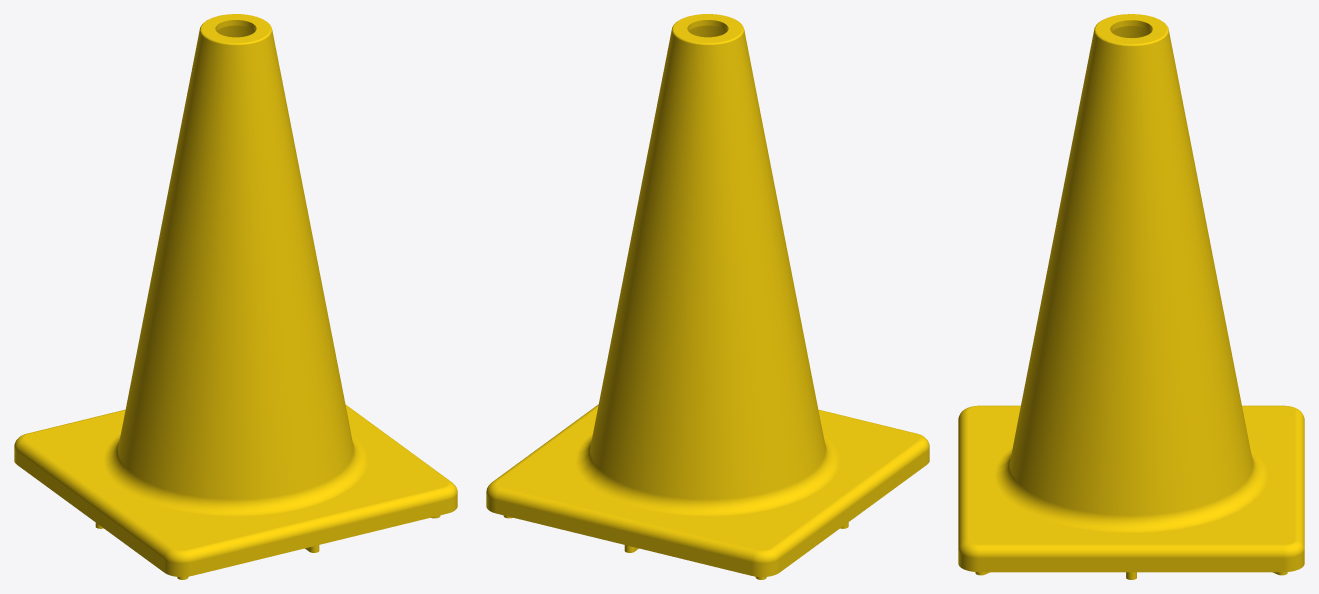
The picture shows the model from 3 angles, left to right: view 1: azimuth 30°, elevation 25°; view 2: azimuth 150°, elevation 25°; view 3: azimuth 270°, elevation 25°; orthographic projection. The views are drawn at different scales.
Visible parts, largest first — view 1: Body1; view 2: Body1; view 3: Body1.
Part boxes in pixels (x1,y1,x2,y2): Body1: (14,14,457,579); Body1: (486,14,929,579); Body1: (958,14,1304,579).
Bounding box in the file's own units: 8.37 × 12.81 × 8.37.
